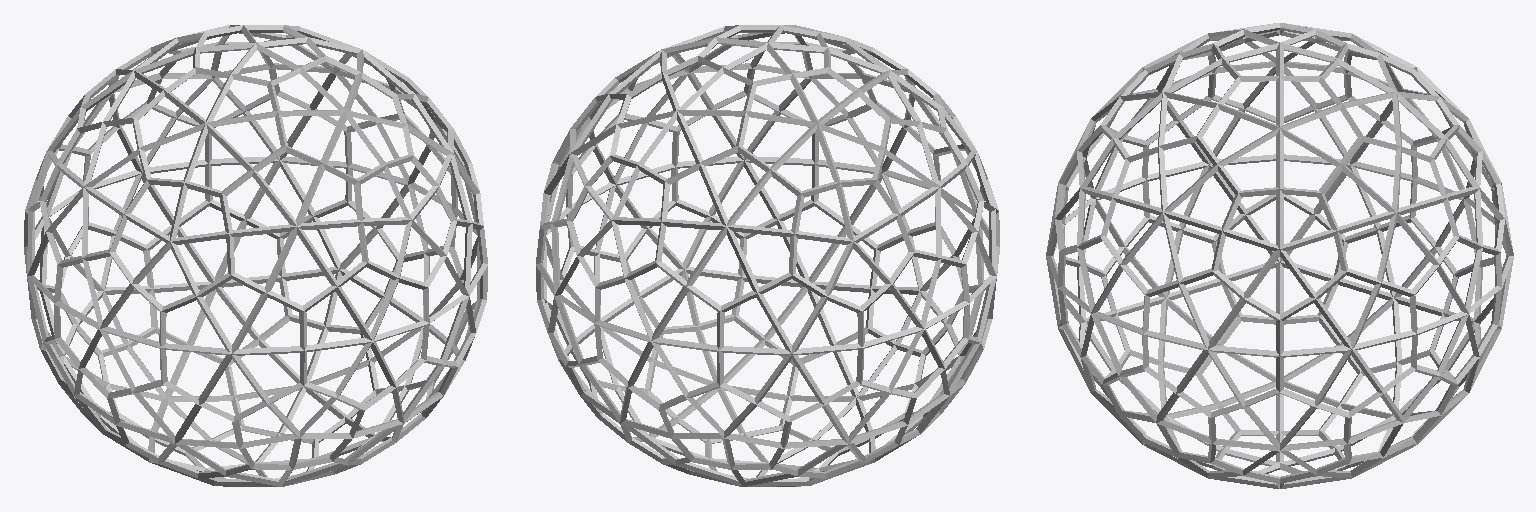
The model's file is wireframe.obj.
3 renders of one model, left to right at view 1: azimuth 30°, elevation 25°; view 2: azimuth 150°, elevation 25°; view 3: azimuth 270°, elevation 25°, orthographic.
Parts seen in each view (by area): view 1: Wireframe_3; view 2: Wireframe_3; view 3: Wireframe_3.
Boxes of the visible parts, <box> form: Wireframe_3: <box>24,25,487,486</box>; Wireframe_3: <box>536,25,999,486</box>; Wireframe_3: <box>1046,23,1513,488</box>.
Size of the model in its own units: 2.43 by 2.45 by 2.44.